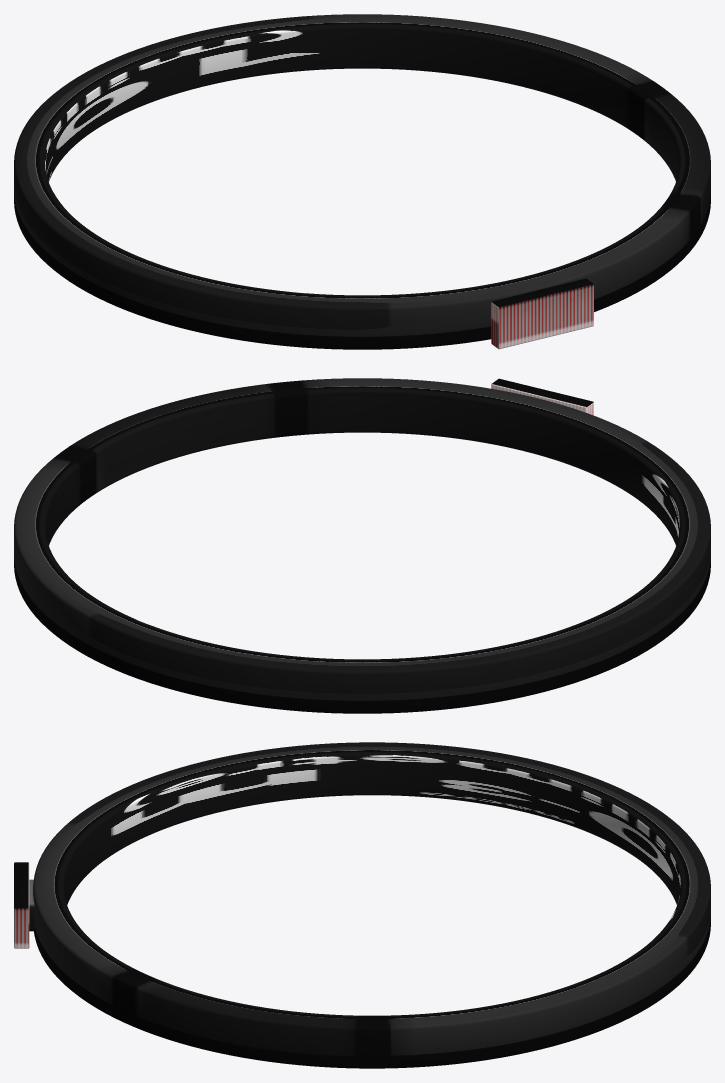
Rendered from 09-scalering-1mm.dae.
3 views of the same model, one above another, from view 1: azimuth 30°, elevation 25°; view 2: azimuth 150°, elevation 25°; view 3: azimuth 270°, elevation 25° (orthographic). The views are drawn at different scales.
Parts seen in each view (by area): view 1: scalering.1, screen.1; view 2: scalering.1, screen.1; view 3: scalering.1, screen.1.
Part boxes in pixels (box(x1,y1,x2,y2)): scalering.1: box(14, 14, 710, 349); screen.1: box(491, 278, 593, 349); scalering.1: box(14, 378, 710, 713); screen.1: box(491, 378, 593, 415); scalering.1: box(33, 742, 710, 1068); screen.1: box(14, 862, 29, 948).
Bounding box in the file's own units: 11 × 0.75 × 11.31.
Materials: 3 (3 with a texture image).
